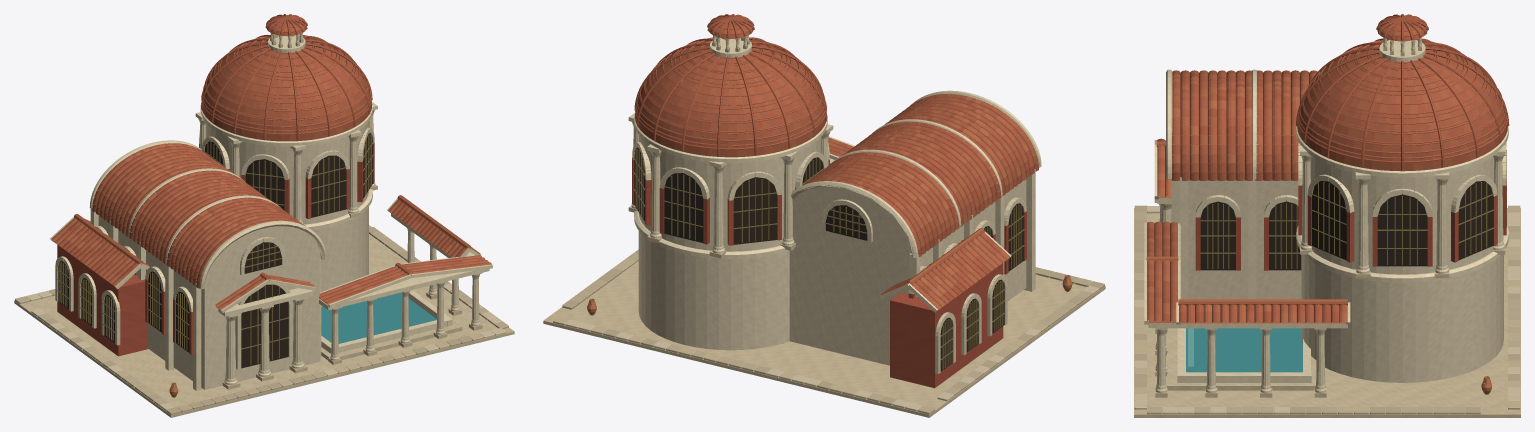
The model's file is thermen.glb.
3 renders of one model, left to right at view 1: azimuth 30°, elevation 25°; view 2: azimuth 150°, elevation 25°; view 3: azimuth 270°, elevation 25°, orthographic. The views are drawn at different scales.
Visible parts, largest first — view 1: Tile_0.003, Limestone_trim.003, Limewash.003, Interior_shadow.003, Tile_1.003, Travertine.001, Limestone_trim.001, Travertine.003, Limewash.001, Tile_2.003, Bronze.003, Tile_5.003 (+15 smaller); view 2: Limewash.003, Tile_0.003, Limestone_trim.003, Travertine.001, Travertine.003, Tile_1.003, Interior_shadow.003, Pompeian_red.003, Tile_2.003, Bronze.003, Tile_5.003, Limestone_trim.001 (+14 smaller); view 3: Limewash.003, Tile_0.003, Limestone_trim.003, Travertine.001, Interior_shadow.003, Tile_1.003, Tile_2.003, Limestone_trim.001, Pool_water.001, Tile_0.001, Bronze.003, Tile_5.003 (+15 smaller).
Boxes of the visible parts, bbox=[...] form: Tile_0.003: bbox=[58, 14, 485, 305]; Limestone_trim.003: bbox=[50, 33, 492, 390]; Limewash.003: bbox=[55, 121, 368, 388]; Interior_shadow.003: bbox=[58, 132, 372, 368]; Tile_1.003: bbox=[57, 23, 491, 307]; Travertine.001: bbox=[14, 35, 514, 417]; Limestone_trim.001: bbox=[55, 33, 489, 390]; Travertine.003: bbox=[14, 35, 514, 416]; Limewash.001: bbox=[55, 231, 319, 389]; Tile_2.003: bbox=[54, 22, 467, 310]; Bronze.003: bbox=[57, 133, 373, 365]; Tile_5.003: bbox=[51, 145, 488, 309]; Limewash.003: bbox=[638, 135, 1007, 373]; Tile_0.003: bbox=[634, 14, 1038, 303]; Limestone_trim.003: bbox=[629, 35, 1041, 336]; Travertine.001: bbox=[543, 37, 1105, 417]; Travertine.003: bbox=[544, 37, 1105, 416]; Tile_1.003: bbox=[636, 23, 1036, 302]; Interior_shadow.003: bbox=[634, 147, 1023, 371]; Pompeian_red.003: bbox=[632, 159, 1026, 387]; Tile_2.003: bbox=[635, 23, 1024, 309]; Bronze.003: bbox=[633, 148, 1024, 369]; Tile_5.003: bbox=[802, 95, 1033, 309]; Limestone_trim.001: bbox=[628, 36, 1035, 343]; Limewash.003: bbox=[1171, 156, 1503, 382]; Tile_0.003: bbox=[1147, 14, 1509, 322]; Limestone_trim.003: bbox=[1144, 38, 1508, 393]; Travertine.001: bbox=[1134, 41, 1520, 417]; Interior_shadow.003: bbox=[1200, 181, 1493, 270]; Tile_1.003: bbox=[1146, 25, 1506, 322]; Tile_2.003: bbox=[1147, 25, 1507, 323]; Limestone_trim.001: bbox=[1148, 37, 1506, 389]; Pool_water.001: bbox=[1186, 328, 1302, 372]; Tile_0.001: bbox=[1162, 15, 1507, 322]; Bronze.003: bbox=[1200, 150, 1506, 268]; Tile_5.003: bbox=[1147, 70, 1347, 322].
Bounding box in the file's own units: 21.5 × 15.89 × 17.
Materials: 19 (6 with a texture image).
